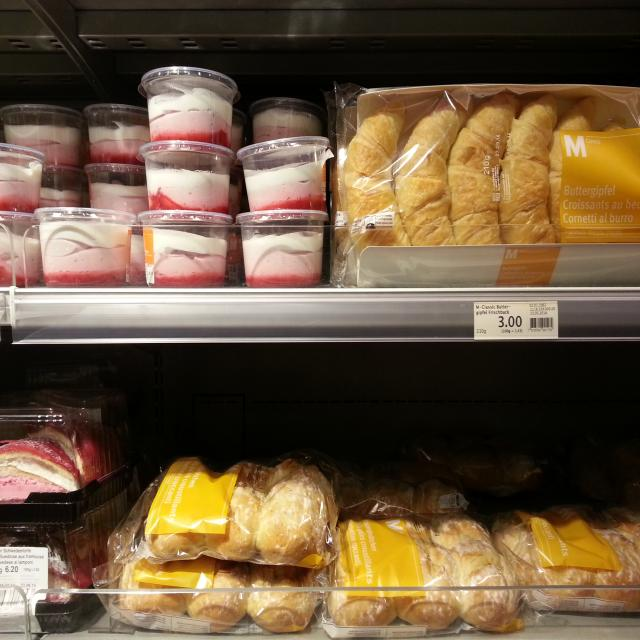Bakery: (333, 84, 640, 286), (328, 512, 522, 631), (0, 470, 139, 634), (144, 452, 342, 566), (492, 504, 640, 616), (0, 379, 126, 503), (136, 65, 240, 145), (34, 207, 135, 285), (136, 138, 236, 212), (237, 135, 332, 212), (138, 209, 232, 286), (235, 211, 322, 293), (0, 101, 85, 168), (248, 93, 323, 151), (84, 102, 149, 164), (85, 161, 146, 218), (0, 144, 46, 213)
